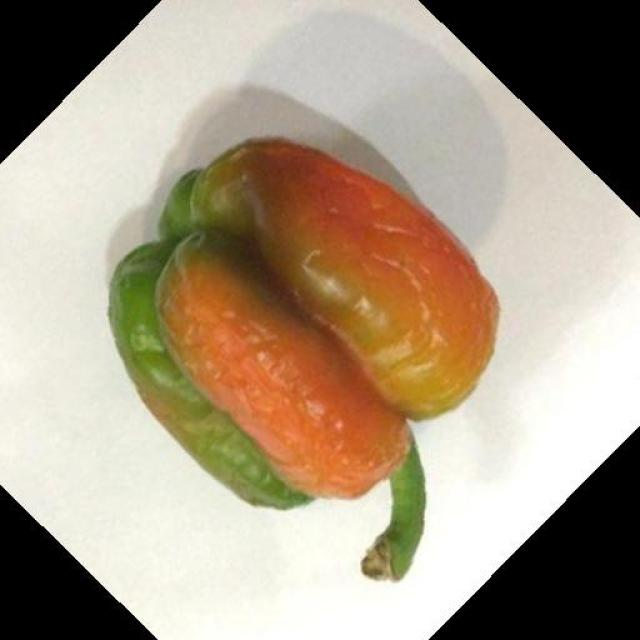Stale_Capsicum: (97, 121, 486, 502)
